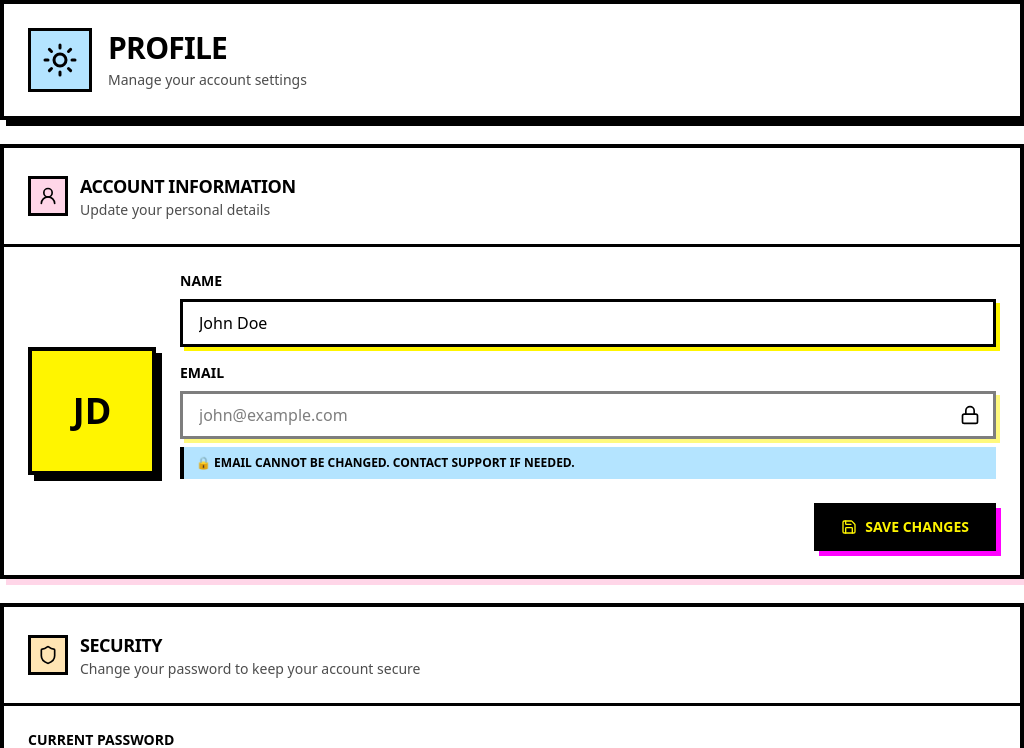
Profile - Functional Tests › Name Update › should not update when name has not changed
Expected: the field showing "John Doe" below "Name" is shown, [180,299,996,347]
Click the button "Save Changes" at (905, 527), box [814,503,996,551]
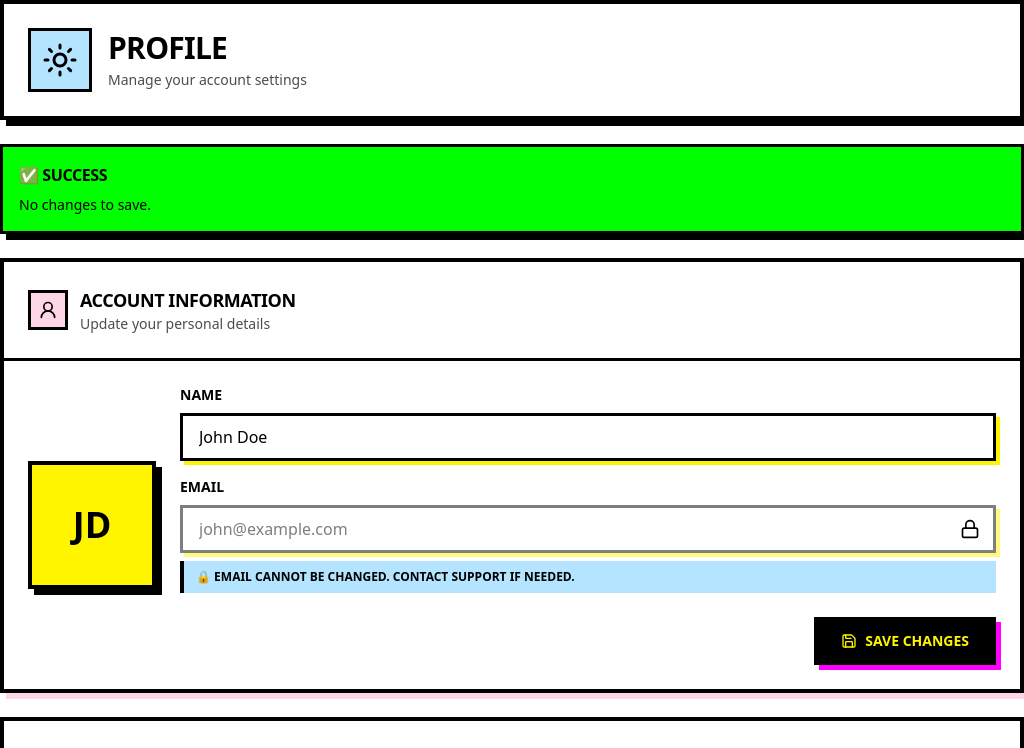
Expected: the text "No changes to save." is shown, [19,195,151,214]
